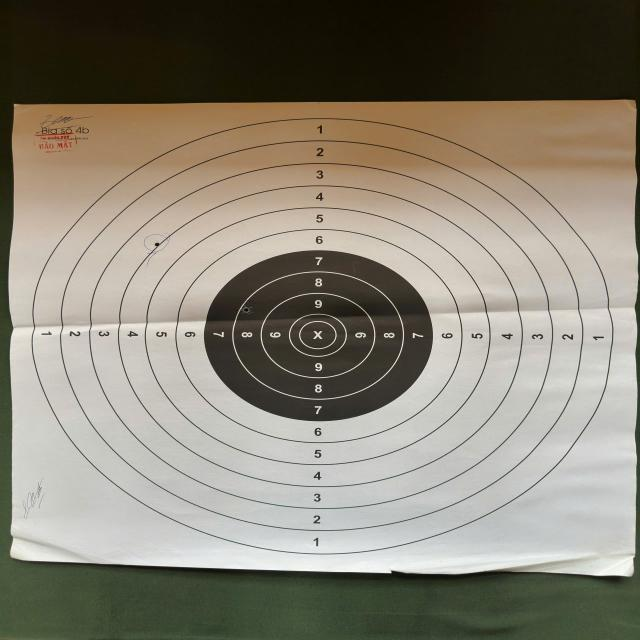bullet: (156, 240, 160, 248), (244, 308, 252, 312)
target: (12, 97, 636, 577)
